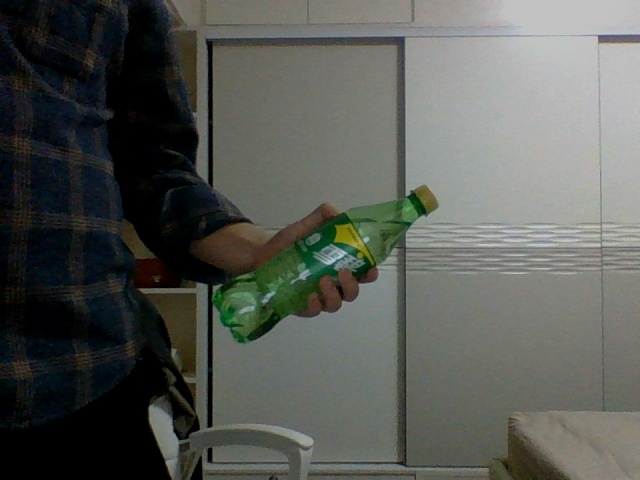Sprite: (212, 186, 439, 342)
